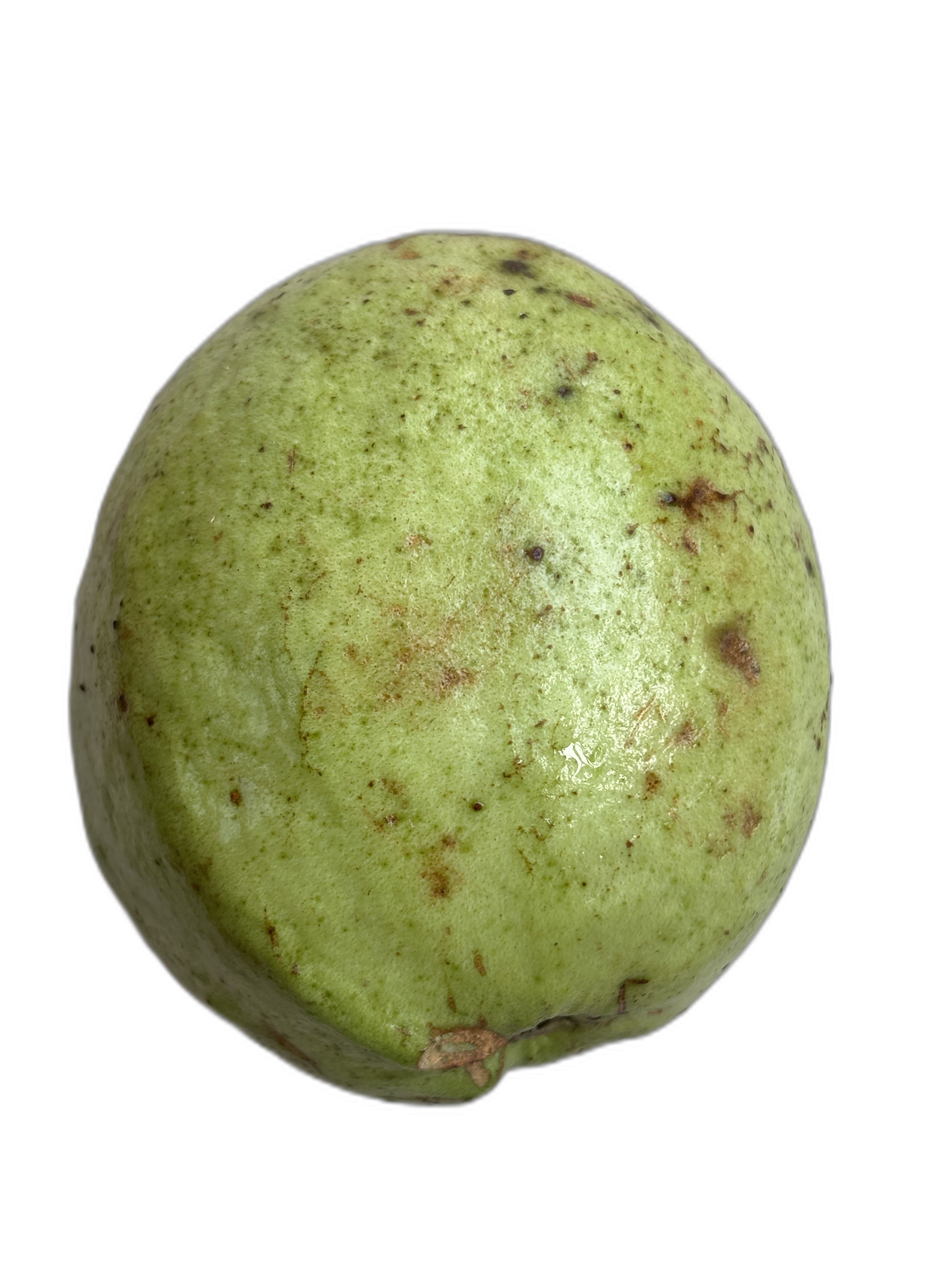guava: (86, 34, 868, 1005)
